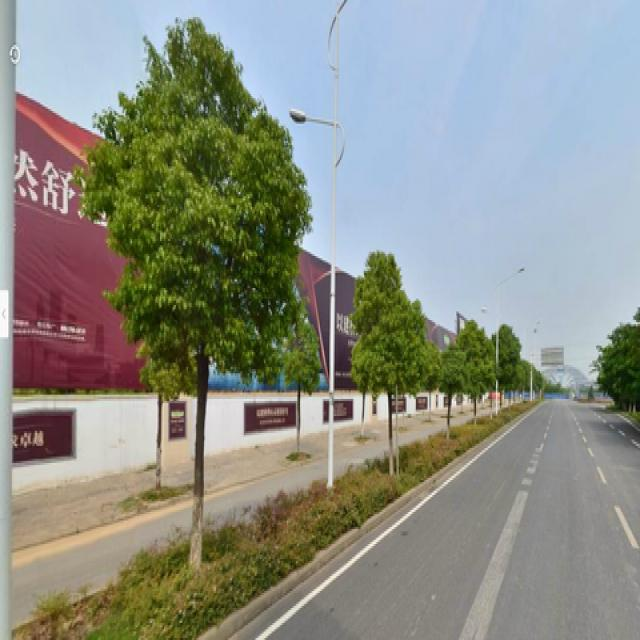cinn: (101, 19, 287, 568)
